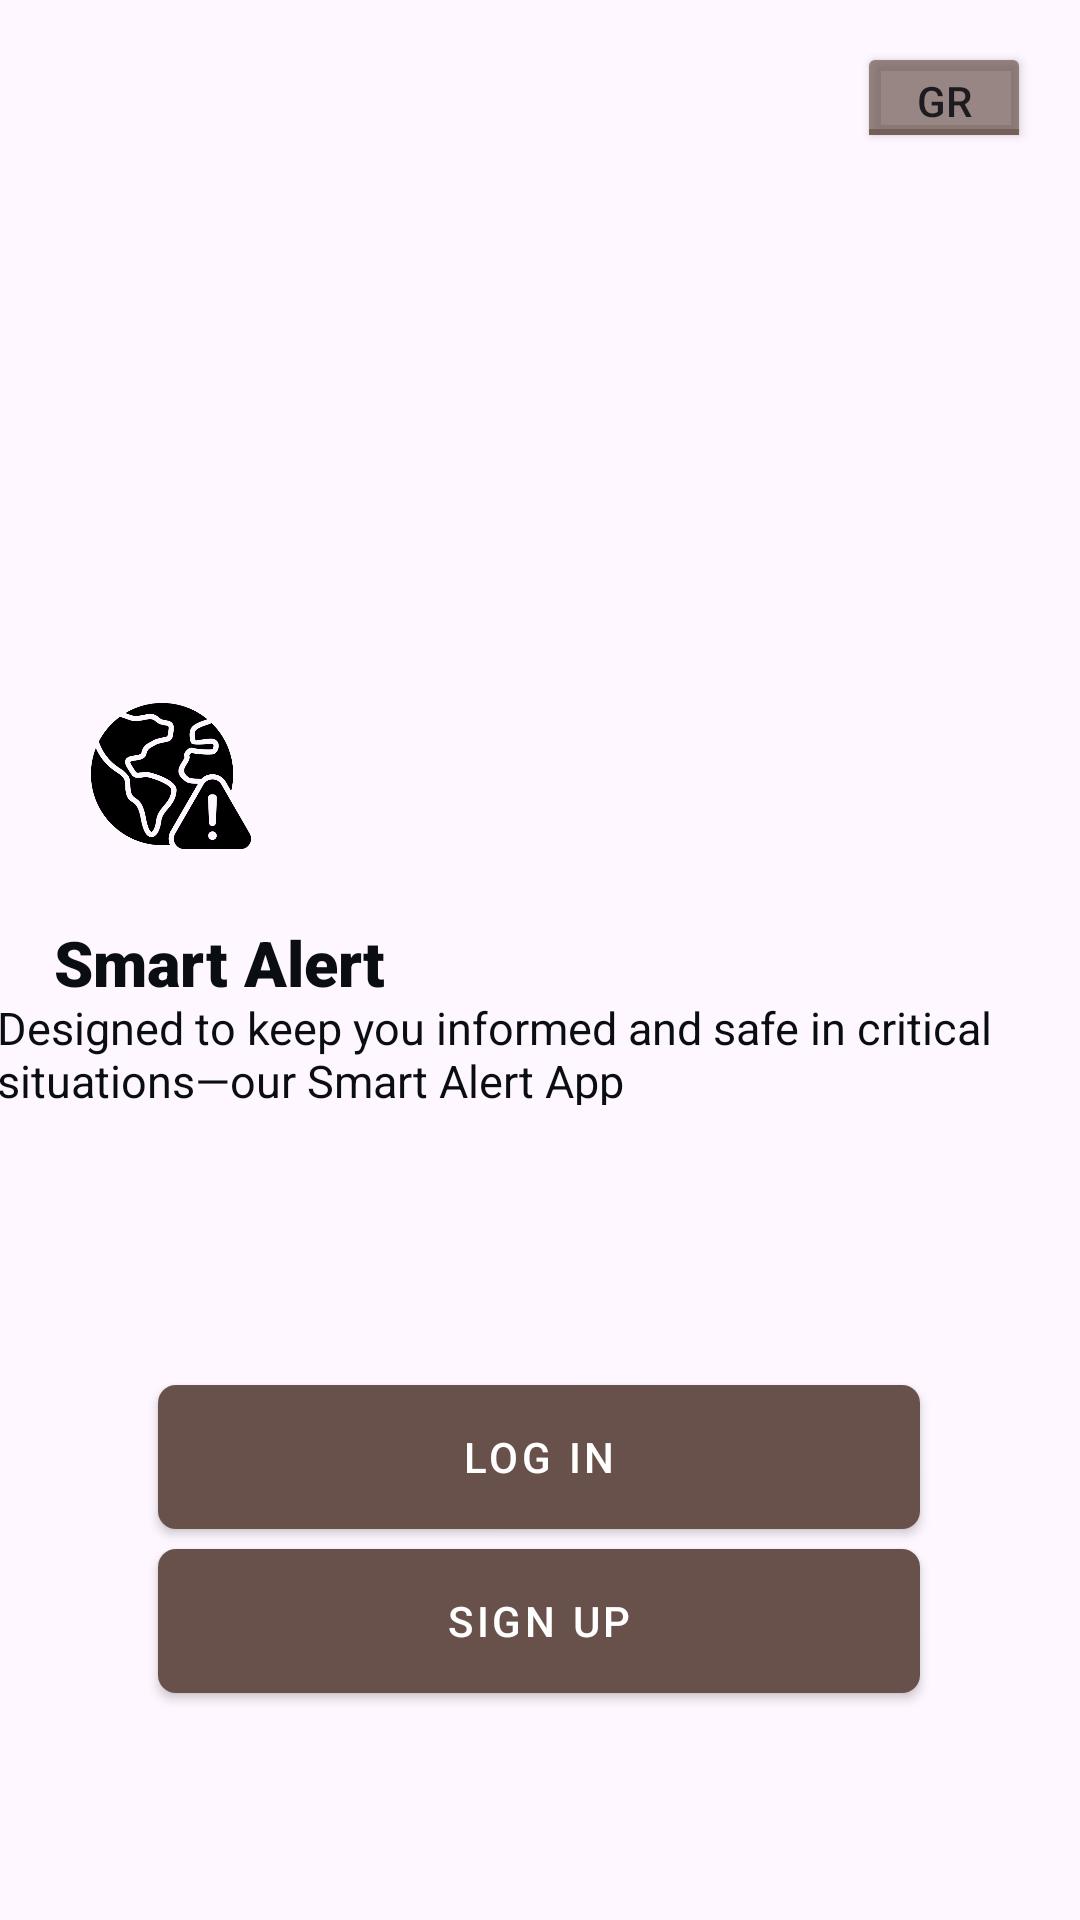

Icons on this 1080 x 1920 Android screen, each with the point to tap as (x,y):
world: (171,776)
